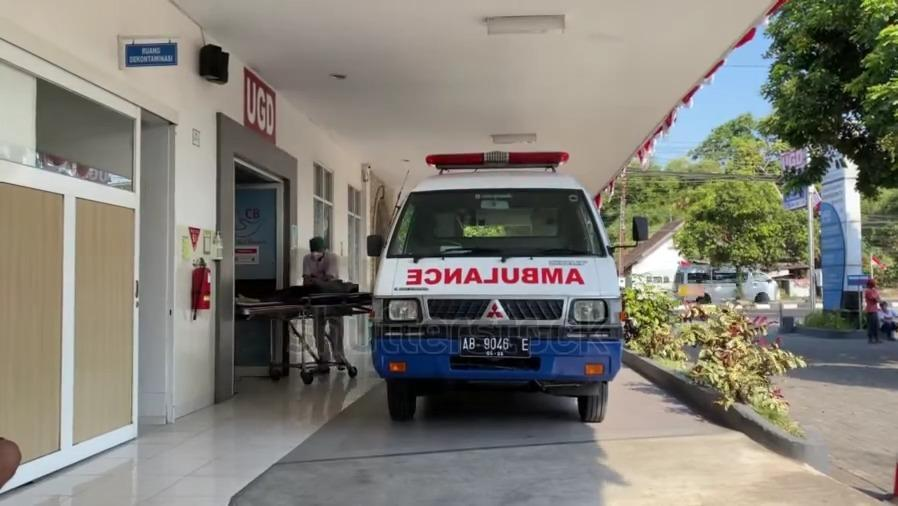Ambulance: (400, 265, 594, 291)
